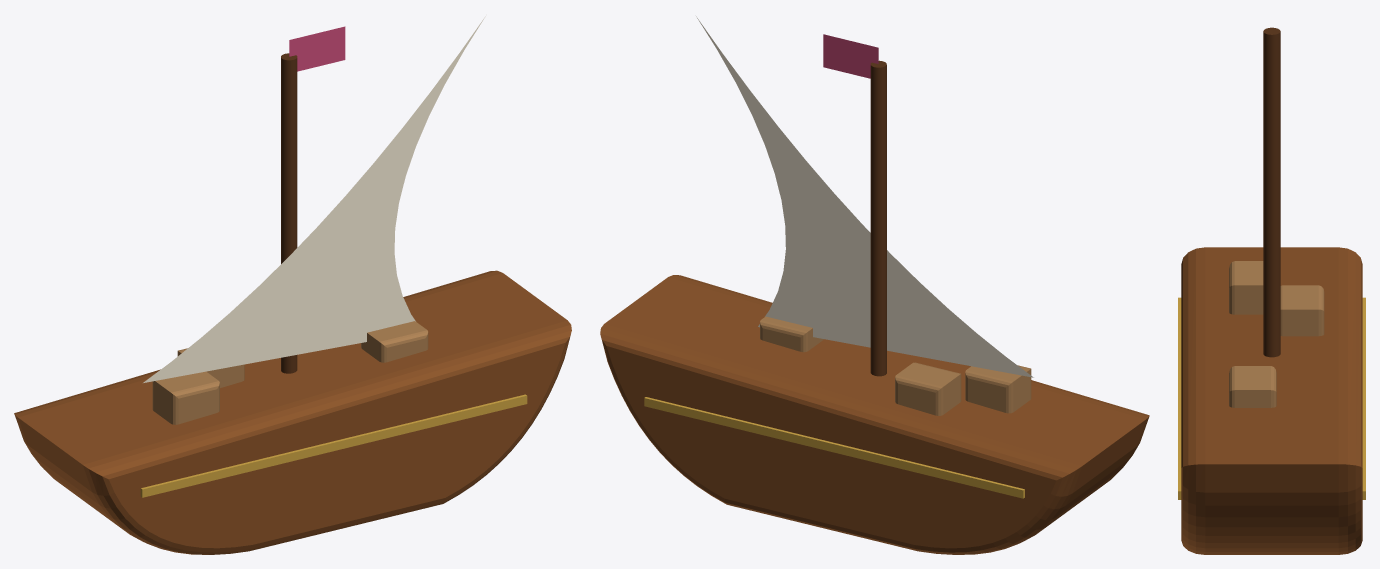
File: dhow.glb
3 views of the same model, side by side, from view 1: azimuth 30°, elevation 25°; view 2: azimuth 150°, elevation 25°; view 3: azimuth 270°, elevation 25° (orthographic). The views are drawn at different scales.
Visible parts, largest first — view 1: part_000, part_001, part_002; view 2: part_000, part_001, part_002; view 3: part_000.
Part boxes in pixels (<box>): part_000: <box>14,53,571,554</box>; part_001: <box>143,16,485,382</box>; part_002: <box>289,26,345,71</box>; part_000: <box>600,60,1149,554</box>; part_001: <box>696,16,1033,377</box>; part_002: <box>823,34,878,78</box>; part_000: <box>1178,27,1365,554</box>.
Bounding box in the file's own units: 6.05 × 5.55 × 1.97.
